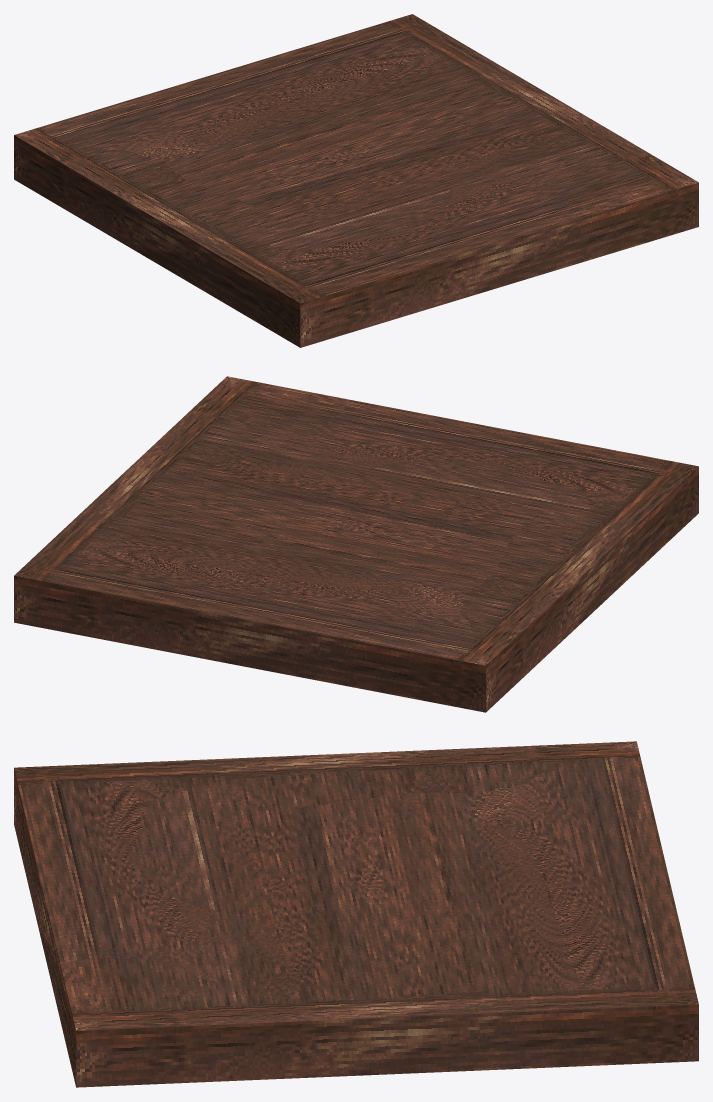
The model's file is crate-lid.glb.
3 renders of one model, top to bottom at view 1: azimuth 30°, elevation 25°; view 2: azimuth 150°, elevation 25°; view 3: azimuth 270°, elevation 25°, orthographic. The views are drawn at different scales.
Visible parts, largest first — view 1: Crate_lid; view 2: Crate_lid; view 3: Crate_lid.
Boxes of the visible parts, x1=… form: Crate_lid: x1=14, y1=14, x2=698, y2=347; Crate_lid: x1=14, y1=376, x2=698, y2=712; Crate_lid: x1=14, y1=741, x2=698, y2=1087.
Size of the model in its own units: 0.6048 by 0.0553 by 0.6048.
1 material, 1 textured.
